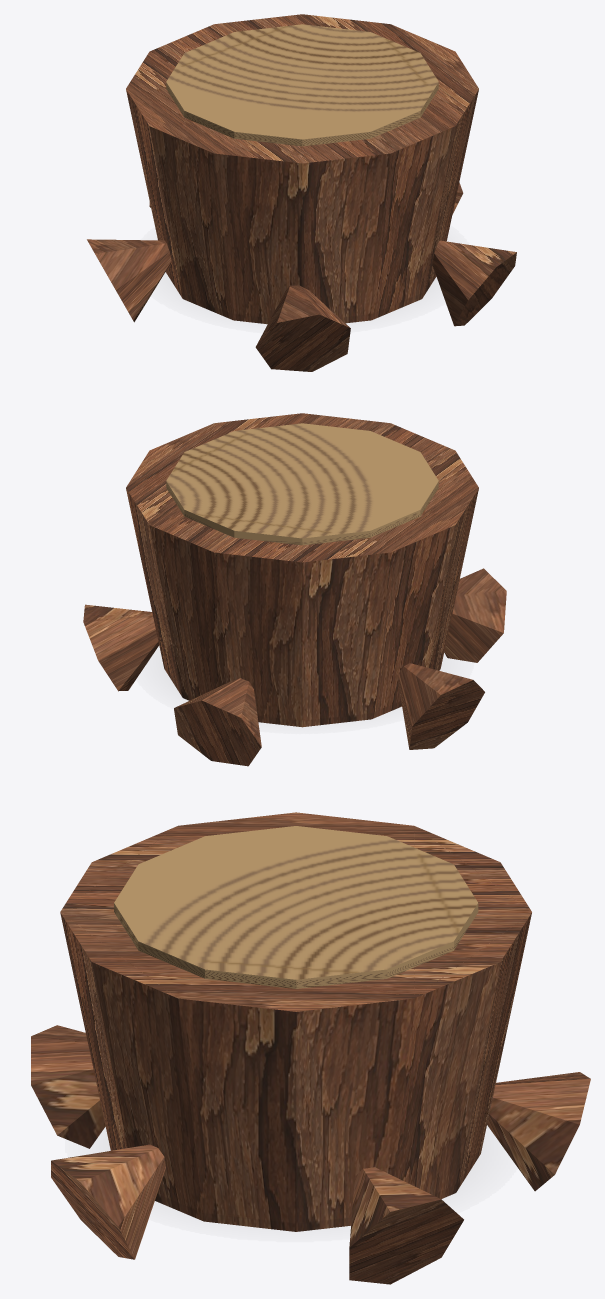
Rendered from stump.glb.
3 views of the same model, one above another, from view 1: azimuth 30°, elevation 25°; view 2: azimuth 150°, elevation 25°; view 3: azimuth 270°, elevation 25° (orthographic). The views are drawn at different scales.
Parts seen in each view (by area): view 1: body, top, root.003, root.004, root.002; view 2: body, top, root.001, root.002, root, root.003; view 3: body, top, root, root.004, root.001, root.003.
Part boxes in pixels (bbox=[...]): body: bbox=[126, 14, 478, 324]; top: bbox=[166, 24, 438, 146]; root.003: bbox=[255, 285, 350, 371]; root.004: bbox=[432, 240, 516, 326]; root.002: bbox=[87, 239, 171, 322]; body: bbox=[126, 413, 478, 727]; top: bbox=[166, 423, 438, 545]; root.001: bbox=[174, 678, 261, 766]; root.002: bbox=[398, 663, 484, 749]; root: bbox=[83, 604, 158, 691]; root.003: bbox=[444, 568, 506, 662]; body: bbox=[60, 812, 531, 1231]; top: bbox=[114, 826, 478, 988]; root: bbox=[349, 1167, 463, 1284]; root.004: bbox=[51, 1144, 165, 1259]; root.001: bbox=[487, 1072, 590, 1191]; root.003: bbox=[31, 1025, 105, 1148].
Size of the model in its own units: 1.12 by 0.6273 by 1.12.
3 materials, 3 textured.
